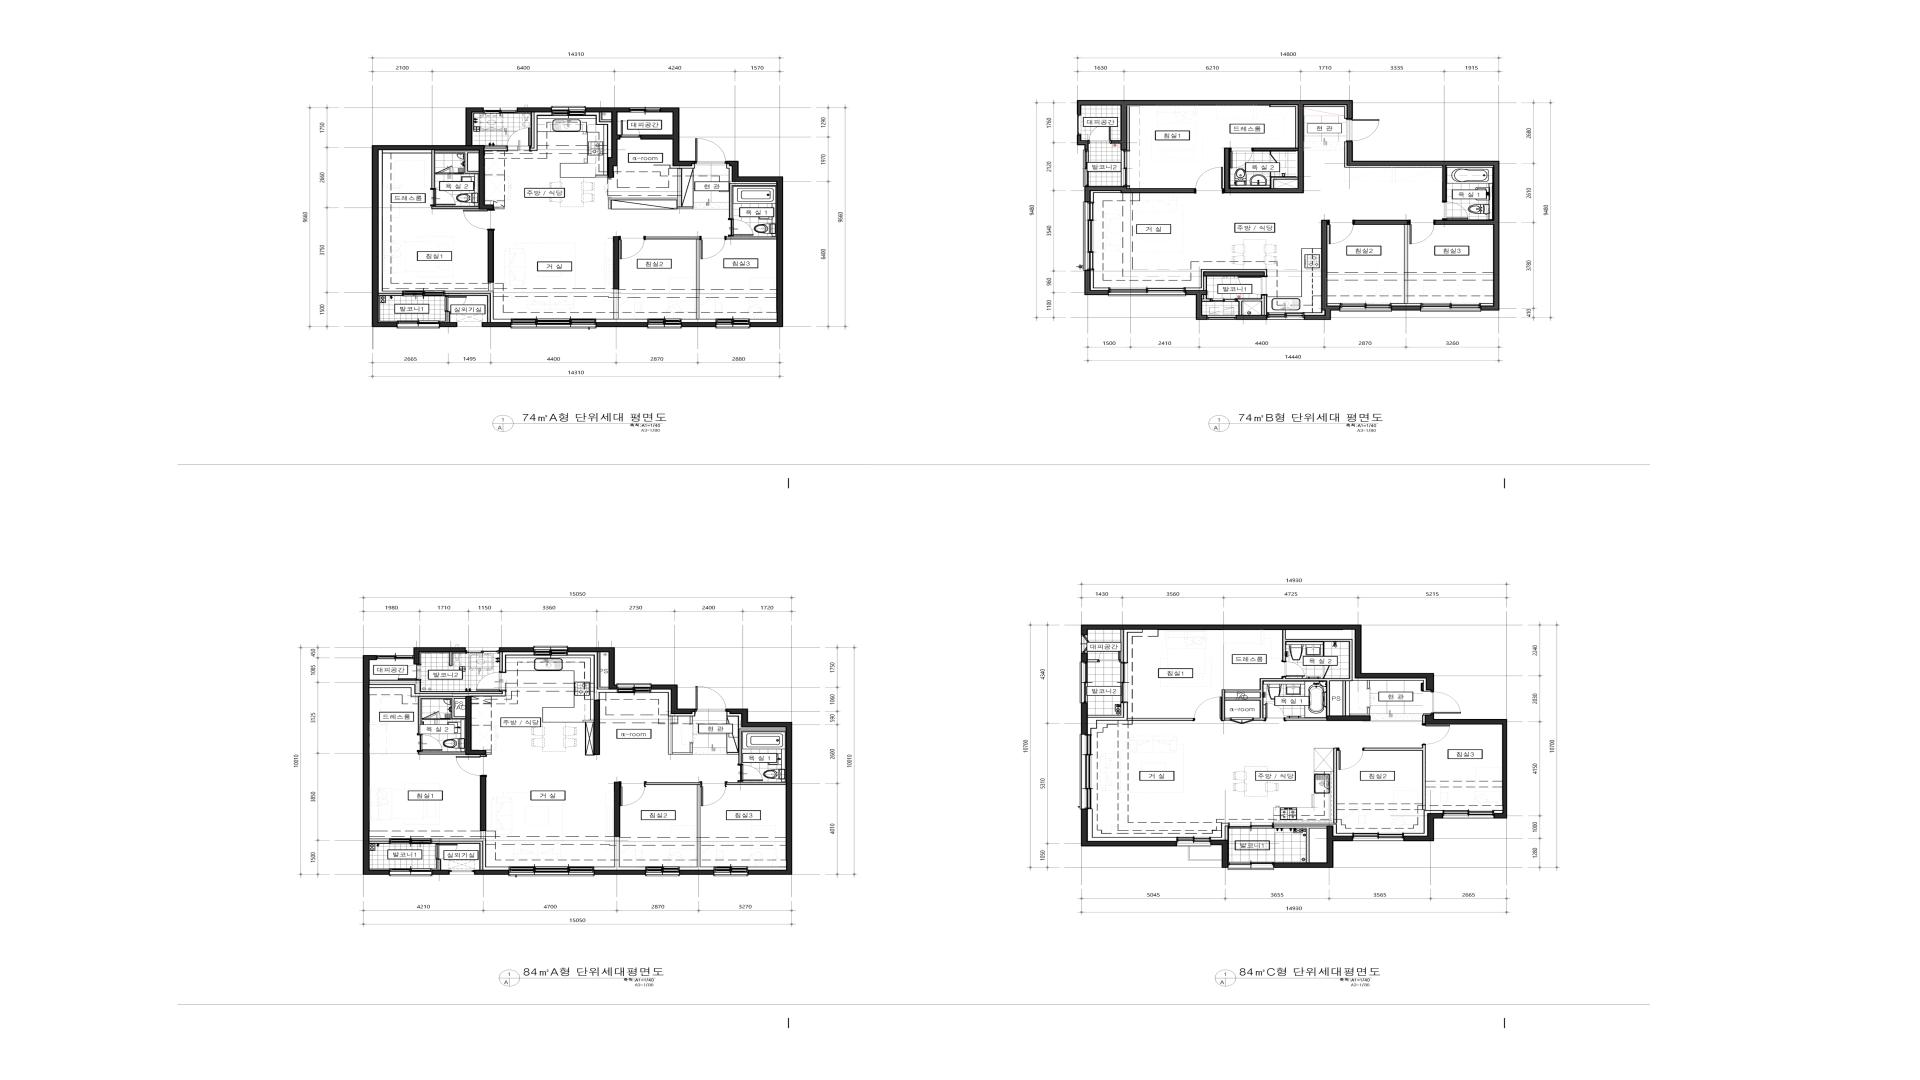door: (1448, 120, 1480, 146), (1371, 169, 1403, 195), (658, 127, 691, 152), (1470, 736, 1503, 761), (754, 736, 787, 761), (1160, 762, 1195, 786), (1146, 241, 1179, 265), (596, 274, 629, 298), (444, 762, 479, 785), (439, 318, 465, 342), (663, 678, 695, 698), (534, 135, 563, 156), (1302, 690, 1331, 711), (1385, 678, 1415, 698), (1394, 274, 1420, 297), (1313, 274, 1340, 297), (1408, 795, 1435, 818), (1328, 795, 1354, 818), (692, 795, 719, 818), (534, 199, 563, 219), (1125, 157, 1154, 177), (384, 684, 409, 707), (447, 269, 472, 291), (567, 692, 592, 715), (709, 687, 735, 709), (613, 795, 638, 818), (1286, 170, 1313, 190), (596, 198, 624, 215), (1125, 220, 1150, 239), (1364, 749, 1386, 769), (423, 741, 448, 758), (625, 253, 650, 270), (1428, 257, 1453, 274), (1139, 741, 1164, 758), (649, 749, 670, 769), (1098, 330, 1122, 345), (642, 356, 666, 372), (1113, 851, 1137, 866), (398, 851, 421, 866), (425, 347, 463, 355), (1369, 667, 1406, 674), (653, 667, 690, 674), (430, 719, 447, 727), (626, 231, 644, 239), (1130, 198, 1147, 206), (1146, 719, 1163, 727), (1427, 720, 1451, 725), (1085, 212, 1112, 216), (607, 766, 633, 770), (1319, 766, 1344, 770), (711, 729, 735, 733), (611, 125, 637, 128), (1302, 247, 1328, 249), (385, 733, 410, 736), (658, 245, 683, 248), (1101, 733, 1126, 736)
wall: (596, 152, 741, 388), (1325, 78, 1448, 199), (446, 58, 661, 127), (1403, 193, 1486, 369), (750, 761, 824, 902), (1466, 761, 1540, 902), (1265, 152, 1344, 248), (356, 663, 384, 882), (1072, 663, 1100, 882), (735, 669, 824, 736), (1451, 669, 1540, 736), (1058, 142, 1084, 361), (603, 167, 663, 253), (1340, 274, 1394, 360), (1354, 795, 1408, 881), (1280, 711, 1357, 767), (463, 156, 562, 199), (1364, 704, 1427, 767), (1127, 142, 1220, 181), (645, 704, 698, 767), (1420, 224, 1480, 278), (638, 795, 692, 852), (1474, 78, 1513, 146), (1112, 182, 1179, 220), (633, 663, 695, 702), (1349, 663, 1411, 702), (1328, 193, 1369, 248), (1416, 222, 1480, 257), (462, 320, 493, 388), (425, 703, 479, 741), (1141, 703, 1195, 741), (425, 727, 472, 762), (1141, 727, 1188, 762), (1125, 206, 1172, 241), (400, 214, 459, 240), (409, 690, 513, 703), (400, 302, 426, 353), (1344, 711, 1365, 769), (1486, 83, 1501, 146), (633, 712, 649, 769), (1416, 185, 1520, 193), (595, 713, 607, 767), (1126, 663, 1236, 669), (410, 663, 520, 669), (1170, 848, 1189, 877), (1154, 327, 1174, 356), (1307, 274, 1313, 360), (1323, 795, 1329, 881), (1154, 356, 1196, 369), (463, 219, 562, 224), (454, 848, 496, 860), (454, 877, 495, 889), (1170, 877, 1211, 889), (601, 353, 616, 382), (547, 688, 567, 709), (472, 785, 479, 844), (596, 215, 603, 274), (587, 669, 605, 690), (1188, 786, 1195, 844), (1172, 265, 1179, 323), (607, 795, 613, 851), (1303, 671, 1321, 690), (596, 298, 603, 349), (1110, 142, 1133, 157), (1270, 663, 1324, 669), (554, 663, 607, 669), (410, 309, 436, 319), (592, 704, 641, 709), (472, 724, 479, 762), (1172, 203, 1179, 241), (1188, 724, 1195, 762), (596, 108, 611, 125), (1254, 142, 1299, 148), (671, 855, 711, 860), (1371, 364, 1411, 369), (1387, 884, 1427, 889), (671, 884, 709, 889), (472, 269, 476, 319), (579, 382, 616, 388), (603, 270, 650, 274), (1480, 186, 1486, 214), (690, 669, 708, 678), (1406, 669, 1424, 678), (589, 884, 620, 889), (589, 855, 620, 860), (1290, 364, 1320, 369), (1305, 884, 1336, 889), (452, 149, 459, 173), (1191, 671, 1195, 703), (761, 855, 782, 860), (661, 158, 741, 160), (364, 698, 384, 703), (558, 108, 562, 135), (364, 848, 402, 851), (1080, 848, 1118, 851), (409, 269, 447, 272), (421, 320, 439, 326), (662, 353, 699, 356), (1065, 327, 1102, 330), (400, 268, 406, 281), (735, 700, 750, 705), (694, 700, 709, 705), (1435, 795, 1466, 798), (719, 795, 746, 798), (1286, 152, 1290, 170), (1069, 239, 1091, 241), (661, 372, 666, 382), (369, 760, 389, 762), (1085, 760, 1105, 762), (679, 272, 699, 274), (661, 382, 670, 388), (394, 877, 402, 882), (398, 866, 402, 877), (369, 732, 385, 735), (1085, 732, 1101, 735), (1114, 866, 1118, 877), (1095, 356, 1102, 361), (1069, 211, 1085, 214), (1098, 345, 1102, 356), (683, 244, 699, 247), (1110, 877, 1118, 882), (698, 728, 712, 731), (410, 732, 425, 735), (1126, 732, 1141, 735), (1358, 704, 1364, 711), (1366, 202, 1369, 214), (735, 728, 745, 731), (1451, 720, 1461, 723), (637, 124, 650, 125)
window: (1211, 880, 1305, 890), (1196, 359, 1290, 369), (495, 884, 589, 890), (493, 378, 579, 385), (495, 851, 589, 856), (1320, 359, 1371, 368), (1411, 359, 1462, 368), (1336, 880, 1387, 889), (1427, 880, 1477, 889), (402, 843, 454, 849), (402, 877, 454, 884), (1102, 356, 1154, 363), (493, 385, 579, 389), (1118, 877, 1170, 884), (1118, 843, 1170, 849), (456, 171, 464, 214), (456, 108, 464, 149), (1236, 663, 1270, 673), (513, 690, 547, 699), (709, 884, 762, 889), (620, 851, 671, 856), (1102, 323, 1154, 328), (1220, 144, 1254, 152), (620, 884, 671, 889), (709, 851, 761, 856), (1133, 141, 1171, 148), (616, 349, 662, 355), (1100, 663, 1126, 673), (1424, 669, 1451, 678), (1324, 663, 1349, 673), (1084, 144, 1110, 152), (1299, 144, 1325, 152), (404, 240, 410, 268), (520, 663, 554, 669), (616, 382, 661, 386), (452, 173, 456, 214), (452, 109, 456, 149), (1445, 78, 1474, 83), (384, 663, 410, 669), (607, 663, 633, 669), (708, 669, 735, 674), (368, 877, 394, 882), (1068, 356, 1095, 361), (404, 281, 410, 302), (1084, 877, 1110, 882), (670, 382, 695, 388), (616, 386, 661, 389), (400, 240, 404, 268), (400, 281, 404, 302)
